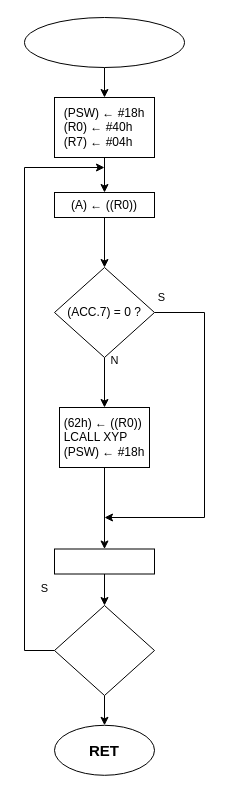
Image size: 230x793. Some labels were removed from this diagram. Each missing label, with the centre of its shape:
"(R0) ← (R0) + 1" goes at pixel 104 561.
"Dec R7 R7 != 0 ?" goes at pixel 104 650.
"SHIPS_ON_FIRE" goes at pixel 104 42.
